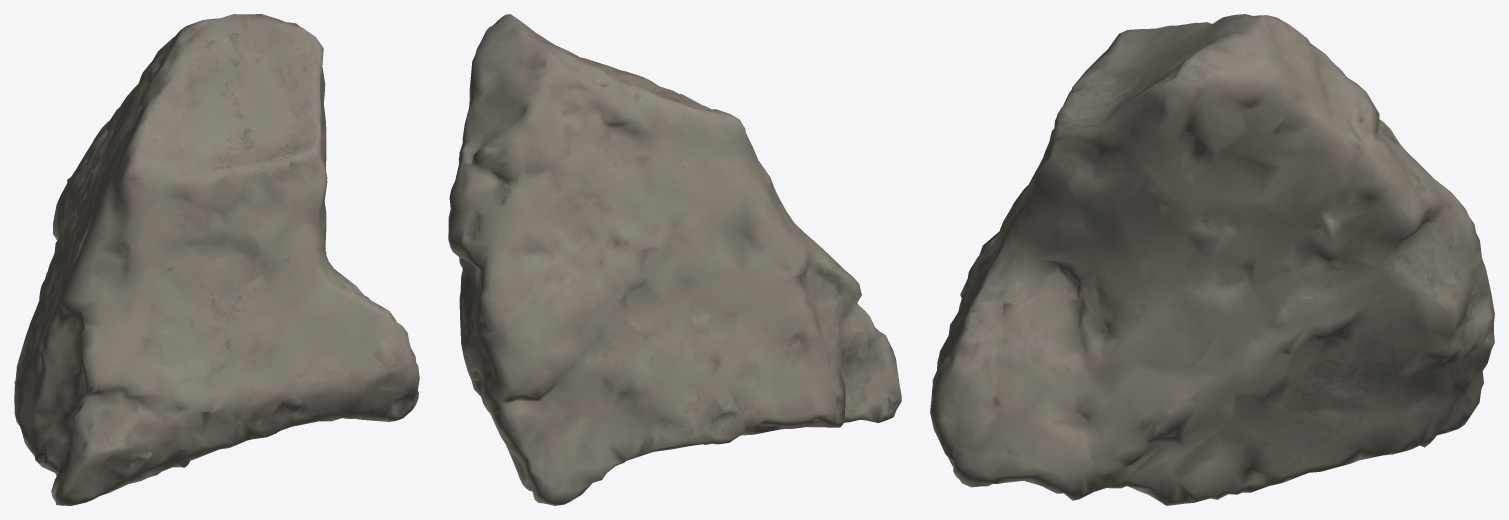
Rendered from moon_rock_05.glb.
3 views of the same model, side by side, from view 1: azimuth 30°, elevation 25°; view 2: azimuth 150°, elevation 25°; view 3: azimuth 270°, elevation 25° (orthographic). The views are drawn at different scales.
Visible parts, largest first — view 1: moon_rock_05_LOD0; view 2: moon_rock_05_LOD0; view 3: moon_rock_05_LOD0.
Boxes of the visible parts, x1,y1,x2,y2 form: moon_rock_05_LOD0: [14, 14, 419, 505]; moon_rock_05_LOD0: [448, 14, 901, 505]; moon_rock_05_LOD0: [930, 14, 1494, 505].
Size of the model in its own units: 0.0717 by 0.0734 by 0.0811.
Materials: 1 (1 with a texture image).
